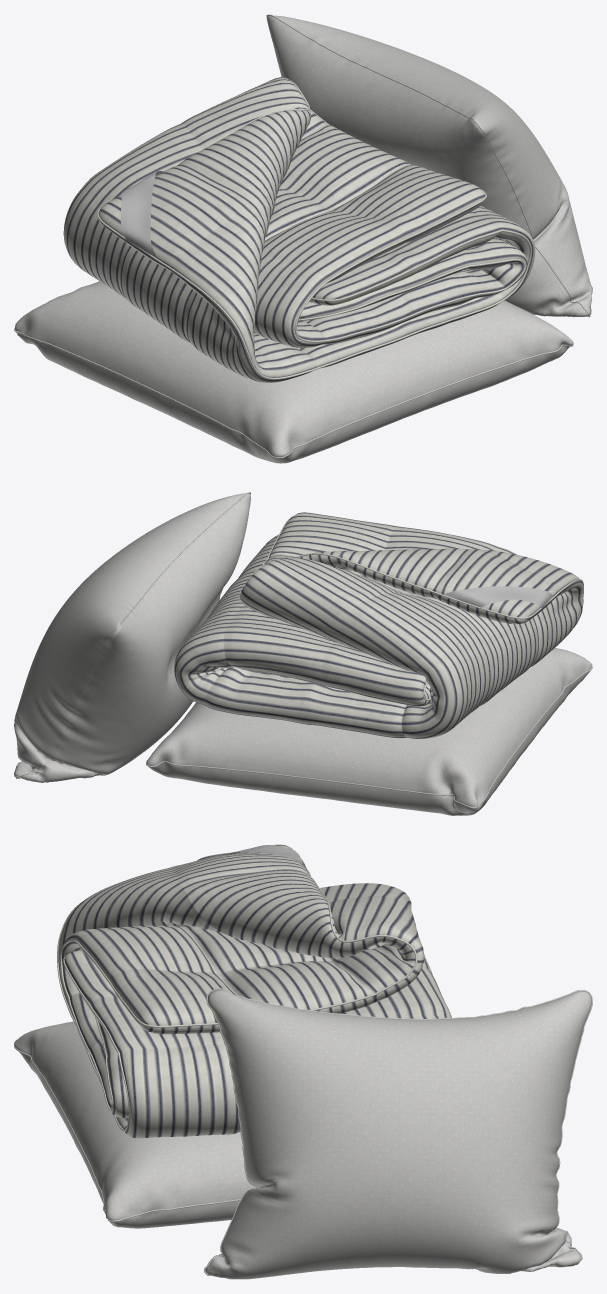
Rendered from Blanket.fbx.
The picture shows the model from 3 angles, top to bottom: view 1: azimuth 30°, elevation 25°; view 2: azimuth 150°, elevation 25°; view 3: azimuth 270°, elevation 25°; orthographic projection. The views are drawn at different scales.
Parts seen in each view (by area): view 1: blanket_fabric, pillow-1, pillow-2, blanket_seams, pillow_seams, silk_tag; view 2: blanket_fabric, pillow-2, pillow-1, pillow_seams, silk_tag, blanket_seams; view 3: pillow-2, blanket_fabric, pillow-1, blanket_seams, pillow_seams, silk_tag.
Part boxes in pixels (x1,y1,x2,y2): blanket_fabric: (63, 77, 535, 382); pillow-1: (15, 281, 573, 463); pillow-2: (267, 15, 592, 317); blanket_seams: (97, 80, 531, 379); pillow_seams: (14, 14, 590, 458); silk_tag: (120, 171, 163, 258); blanket_fabric: (174, 512, 583, 738); pillow-2: (14, 493, 250, 782); pillow-1: (146, 648, 592, 815); pillow_seams: (16, 492, 592, 808); silk_tag: (443, 586, 552, 608); blanket_seams: (240, 519, 583, 700); pillow-2: (205, 989, 591, 1279); blanket_fabric: (58, 844, 451, 1138); pillow-1: (14, 1021, 256, 1228); blanket_seams: (57, 850, 417, 1131); pillow_seams: (14, 988, 592, 1275); silk_tag: (197, 845, 307, 870).
Bounding box in the file's own units: 118 × 51.62 × 114.
